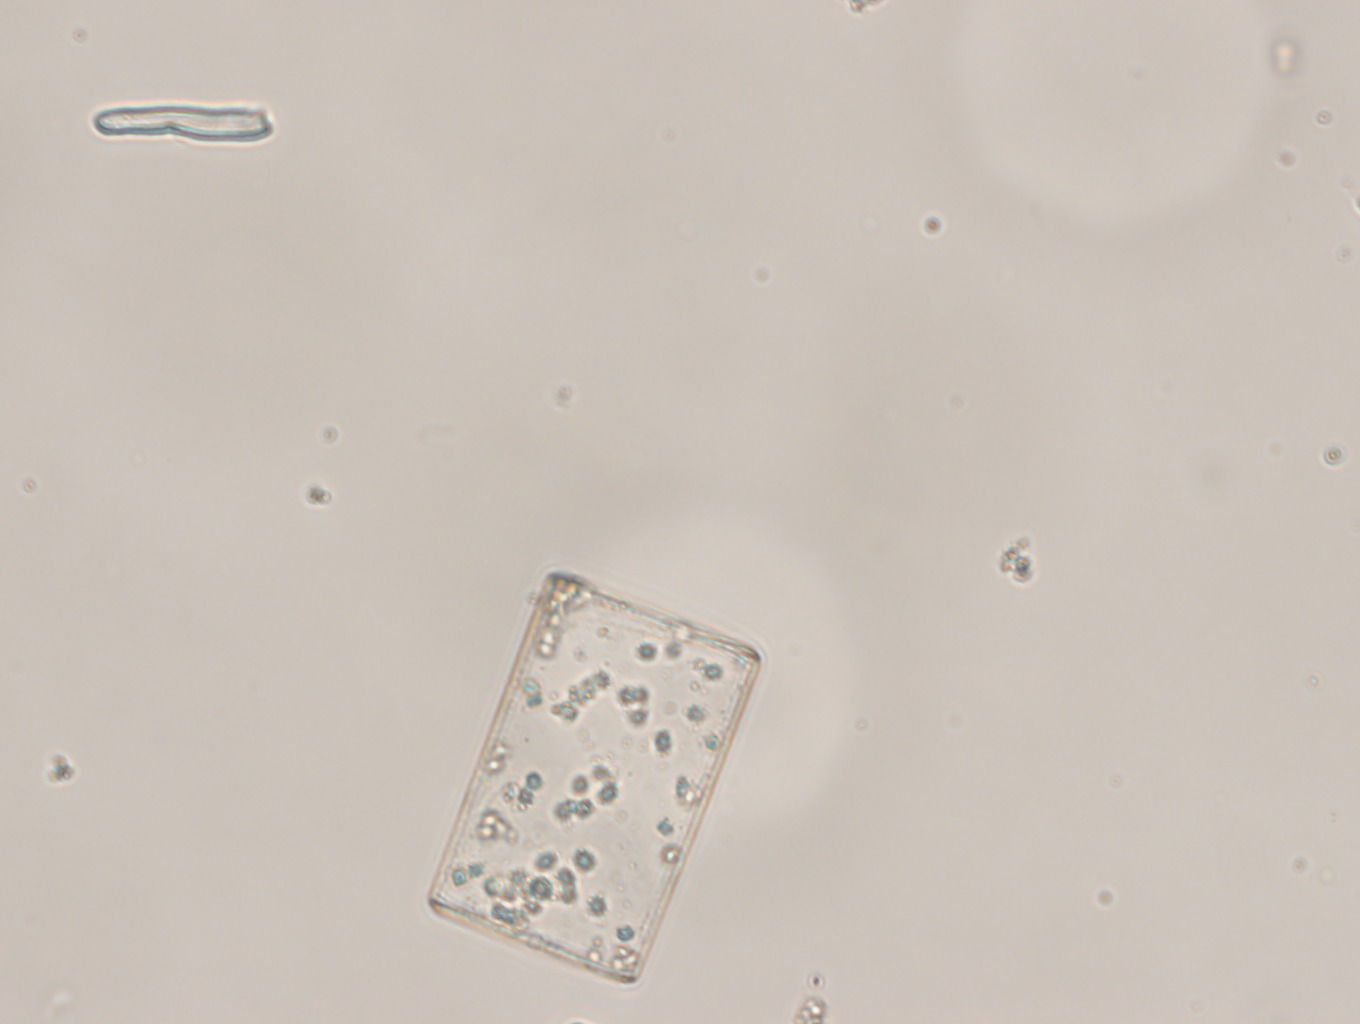guinardia flaccida: (427, 566, 763, 985)
